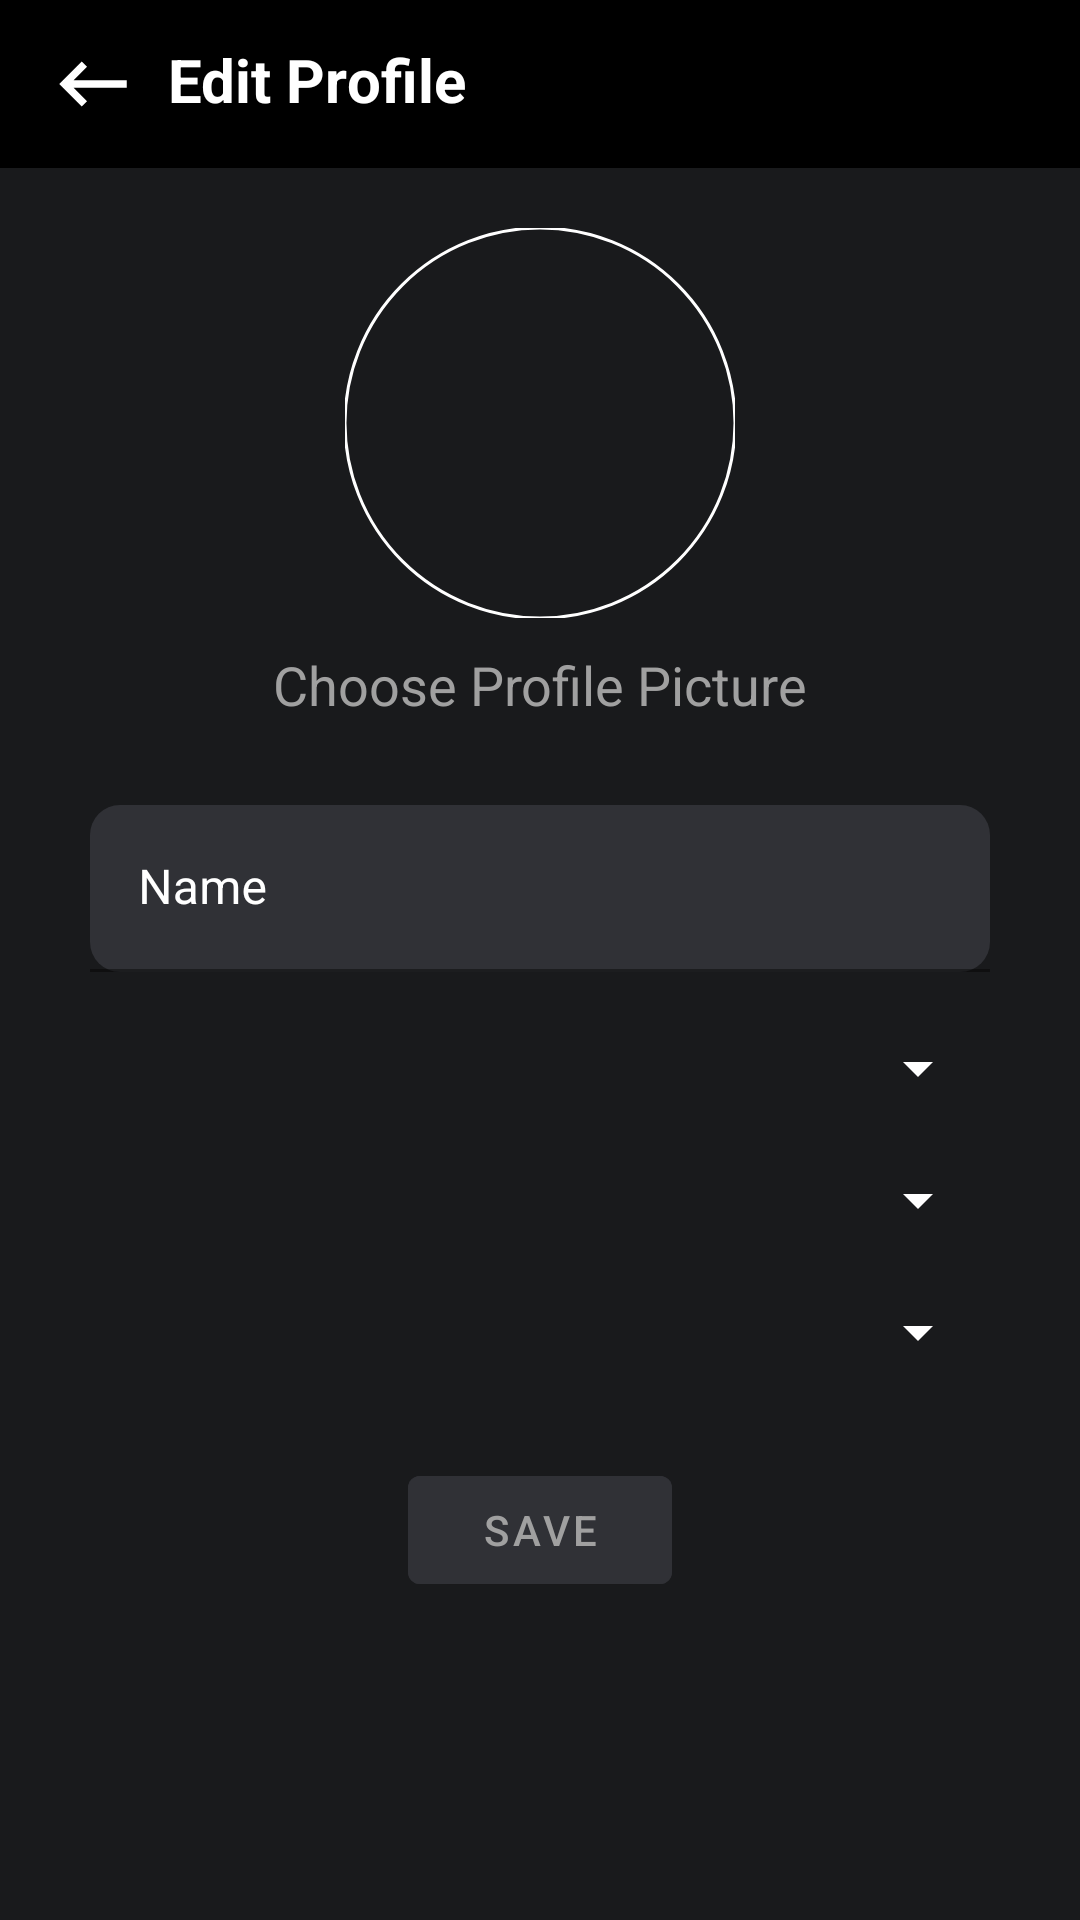

Named icons in this screenshot (1080x1920) and their centers, (x,y):
back: (93,84)
